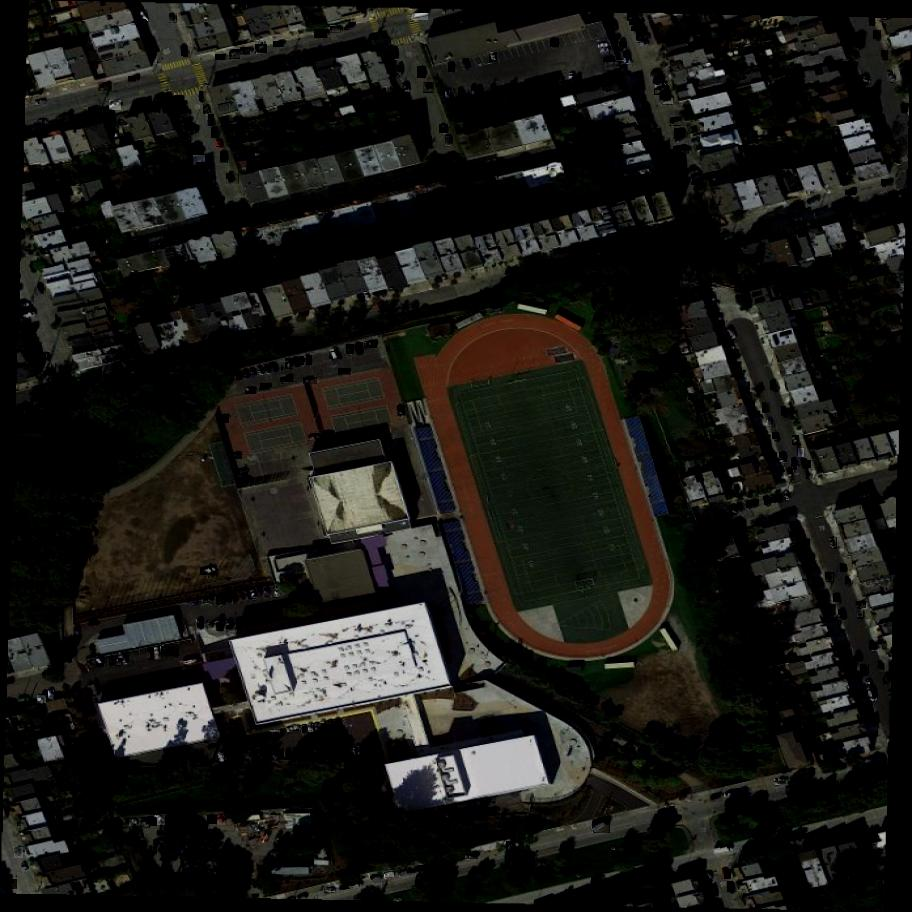large-vehicle: (593, 819, 610, 834), (713, 847, 734, 855)
small-vehicle: (506, 840, 522, 852), (1, 879, 17, 890), (226, 172, 239, 185), (329, 347, 341, 361), (674, 146, 689, 157), (656, 86, 671, 97), (35, 354, 51, 364), (674, 133, 686, 145), (669, 117, 681, 129), (667, 872, 683, 881), (200, 567, 216, 576), (660, 91, 673, 102), (99, 82, 112, 93), (423, 82, 434, 95), (807, 196, 820, 207), (314, 29, 328, 39), (412, 14, 429, 22), (229, 48, 240, 60), (154, 815, 166, 826), (14, 847, 25, 859), (119, 652, 130, 664), (193, 155, 206, 165), (627, 13, 640, 23), (110, 100, 123, 110), (710, 792, 723, 802), (216, 595, 227, 606), (303, 377, 318, 385), (21, 312, 36, 320), (255, 44, 267, 54), (140, 817, 150, 829), (396, 406, 406, 418), (338, 368, 351, 377), (201, 218, 214, 227), (37, 119, 51, 127), (155, 646, 163, 660), (674, 129, 685, 139), (208, 814, 218, 825), (147, 817, 158, 827), (887, 70, 897, 81), (219, 414, 230, 424), (190, 143, 202, 152), (211, 127, 220, 139), (439, 123, 448, 135), (418, 125, 427, 137), (418, 66, 427, 78), (880, 50, 889, 62), (248, 589, 257, 601), (868, 690, 876, 703), (221, 151, 229, 164), (825, 572, 835, 582), (726, 329, 736, 339), (663, 98, 674, 107), (345, 22, 356, 31), (211, 198, 222, 207), (370, 875, 381, 884), (22, 861, 31, 872), (723, 869, 732, 880), (711, 885, 720, 896), (792, 435, 801, 446), (96, 656, 105, 667), (638, 42, 652, 49), (653, 77, 665, 85), (346, 344, 354, 356), (240, 48, 252, 56), (172, 96, 184, 104), (217, 814, 225, 826), (780, 451, 788, 463), (286, 726, 299, 733), (735, 788, 745, 797), (873, 30, 882, 40), (636, 29, 647, 37), (496, 167, 507, 175), (285, 358, 293, 369), (88, 107, 99, 115), (274, 42, 285, 50), (215, 54, 226, 62), (208, 193, 219, 201), (424, 138, 432, 149), (856, 601, 867, 609), (845, 575, 853, 586), (882, 179, 893, 187), (762, 402, 770, 413), (226, 619, 234, 630), (146, 238, 163, 243), (192, 149, 204, 156), (182, 45, 189, 57), (236, 468, 248, 475), (147, 648, 154, 660), (38, 695, 47, 704), (619, 41, 627, 51), (489, 52, 497, 62), (169, 13, 177, 23), (488, 808, 498, 816), (893, 155, 901, 165), (803, 459, 811, 469), (171, 646, 179, 656), (513, 164, 526, 170), (468, 811, 481, 817), (604, 58, 615, 65), (598, 43, 609, 50), (356, 342, 363, 353), (306, 355, 313, 366), (392, 49, 399, 60), (218, 752, 225, 763), (216, 621, 223, 632), (550, 39, 559, 47), (269, 362, 277, 371), (201, 179, 213, 185), (208, 114, 214, 126), (129, 819, 138, 827), (861, 664, 869, 673), (840, 564, 848, 573), (229, 452, 241, 458), (245, 389, 257, 395), (48, 691, 56, 700), (446, 90, 453, 100), (299, 356, 306, 366), (38, 283, 45, 293), (331, 27, 341, 34), (140, 11, 147, 21), (728, 882, 735, 892), (870, 641, 877, 651), (731, 505, 738, 515), (791, 459, 798, 469), (449, 62, 455, 73), (652, 72, 663, 78), (329, 200, 340, 206), (261, 384, 272, 390), (466, 854, 477, 860), (214, 209, 227, 214), (601, 48, 610, 55), (462, 58, 469, 67), (199, 92, 206, 101), (203, 105, 210, 114), (706, 873, 713, 882), (862, 75, 869, 84), (901, 103, 908, 112), (315, 724, 322, 733), (770, 495, 777, 504), (806, 470, 813, 479), (162, 645, 169, 654), (623, 53, 629, 63), (459, 90, 465, 100), (435, 176, 447, 181), (263, 364, 269, 374), (281, 377, 293, 382), (35, 99, 45, 105), (397, 65, 403, 75), (367, 190, 377, 196), (400, 870, 410, 876), (781, 406, 787, 416), (869, 18, 876, 26), (630, 21, 641, 26), (655, 84, 666, 89), (348, 882, 359, 887), (276, 586, 281, 597), (128, 77, 137, 83), (403, 83, 409, 92), (335, 719, 341, 728), (838, 610, 844, 619), (834, 594, 840, 603), (858, 609, 864, 618), (799, 448, 805, 457), (198, 619, 204, 628), (364, 344, 377, 348), (632, 27, 642, 32), (453, 814, 463, 819), (831, 538, 836, 548), (236, 619, 241, 629), (773, 433, 780, 440), (216, 139, 222, 147), (866, 681, 872, 689), (778, 493, 784, 501), (768, 418, 774, 426), (446, 136, 451, 145), (772, 381, 777, 390), (286, 751, 291, 760), (116, 656, 121, 665), (242, 616, 247, 625), (637, 37, 648, 41), (262, 611, 266, 622), (746, 501, 752, 508), (753, 499, 759, 506), (277, 750, 283, 757), (27, 327, 37, 331), (198, 163, 208, 167), (775, 779, 785, 783), (856, 652, 861, 660), (846, 191, 856, 195), (225, 593, 230, 601), (204, 185, 217, 188), (151, 244, 163, 247), (236, 371, 240, 380), (385, 873, 394, 877), (724, 793, 733, 797), (879, 660, 883, 669), (592, 877, 601, 881), (737, 504, 743, 510), (353, 746, 357, 755), (265, 587, 269, 596), (321, 723, 326, 730), (302, 726, 307, 733), (109, 658, 114, 665), (490, 86, 495, 92), (569, 74, 574, 80), (258, 366, 263, 372), (325, 889, 335, 892), (765, 498, 769, 505), (784, 491, 788, 498), (478, 85, 481, 94), (295, 358, 298, 367), (199, 171, 208, 174), (197, 232, 209, 234), (291, 211, 301, 213), (252, 368, 254, 374), (309, 725, 311, 731), (269, 731, 278, 732)
